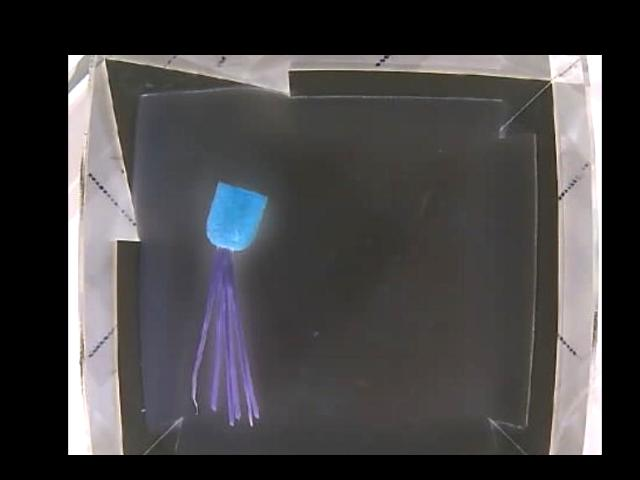Carrot: (203, 179, 267, 299)
